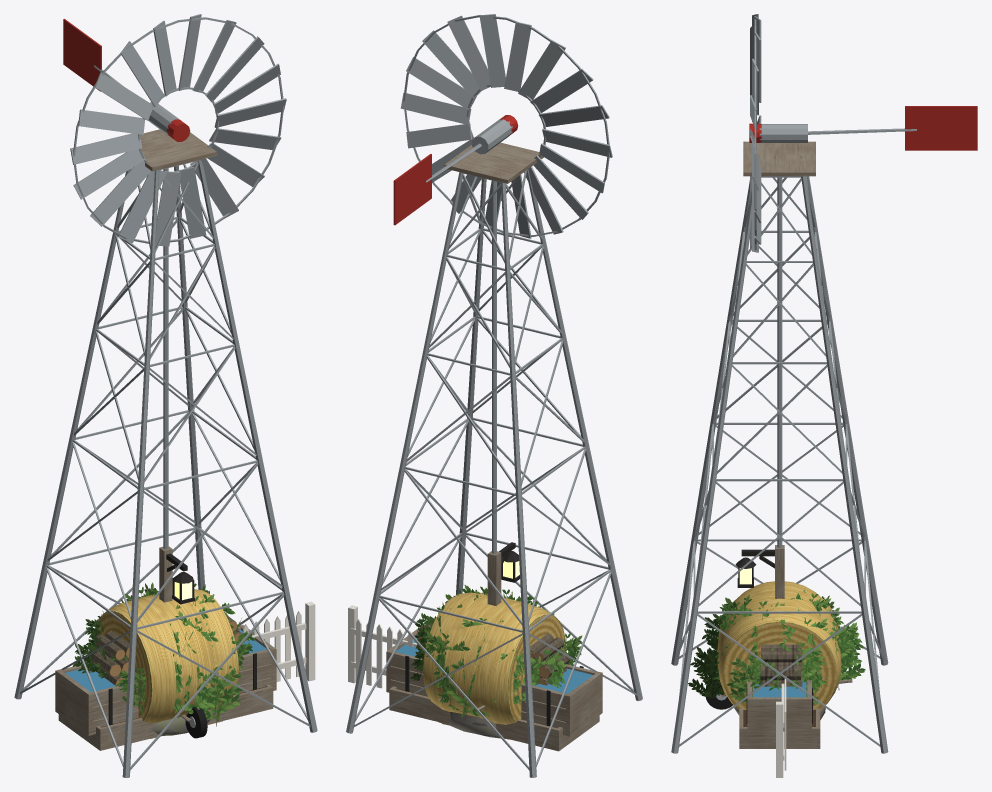
File: decor.glb
3 renders of one model, left to right at view 1: azimuth 30°, elevation 25°; view 2: azimuth 150°, elevation 25°; view 3: azimuth 270°, elevation 25°, orthographic. The views are drawn at different scales.
Parts seen in each view (by area): view 1: Windmill, WindmillRotor, HayBale, BushA, Trough, GardenBed, Picket, Woodpile, LampPost, TroughWater, Wheelbarrow, RockA; view 2: Windmill, WindmillRotor, HayBale, BushA, Trough, GardenBed, Picket, LampPost, Woodpile, RockA, TroughWater; view 3: Windmill, HayBale, BushA, Trough, WindmillRotor, Woodpile, LampPost, GardenBed, Picket, TroughWater.
Boxes of the visible parts, x1=… form: Windmill: x1=14, y1=19, x2=317, y2=777; WindmillRotor: x1=70, y1=14, x2=286, y2=246; HayBale: x1=95, y1=589, x2=238, y2=723; BushA: x1=72, y1=582, x2=255, y2=726; Trough: x1=55, y1=625, x2=276, y2=735; GardenBed: x1=58, y1=684, x2=273, y2=750; Picket: x1=243, y1=601, x2=315, y2=681; Woodpile: x1=88, y1=615, x2=241, y2=685; LampPost: x1=159, y1=546, x2=194, y2=604; TroughWater: x1=65, y1=630, x2=266, y2=692; Wheelbarrow: x1=181, y1=706, x2=207, y2=738; RockA: x1=147, y1=705, x2=216, y2=735; Windmill: x1=346, y1=119, x2=642, y2=777; WindmillRotor: x1=400, y1=14, x2=612, y2=238; HayBale: x1=423, y1=592, x2=565, y2=724; BushA: x1=410, y1=585, x2=582, y2=719; Trough: x1=386, y1=628, x2=602, y2=736; GardenBed: x1=389, y1=686, x2=599, y2=751; Picket: x1=348, y1=605, x2=417, y2=688; LampPost: x1=487, y1=542, x2=519, y2=605; Woodpile: x1=417, y1=617, x2=570, y2=685; RockA: x1=441, y1=712, x2=505, y2=738; TroughWater: x1=396, y1=635, x2=593, y2=693; Windmill: x1=671, y1=106, x2=977, y2=753; HayBale: x1=717, y1=581, x2=841, y2=709; BushA: x1=688, y1=589, x2=865, y2=705; Trough: x1=746, y1=677, x2=812, y2=739; WindmillRotor: x1=749, y1=14, x2=761, y2=252; Woodpile: x1=760, y1=644, x2=802, y2=686; LampPost: x1=735, y1=545, x2=784, y2=598; GardenBed: x1=739, y1=708, x2=820, y2=748; Picket: x1=776, y1=676, x2=786, y2=777; TroughWater: x1=753, y1=680, x2=806, y2=697.
Size of the model in its own units: 3.52 by 9.36 by 3.79.
Materials: 20 (12 with a texture image).
